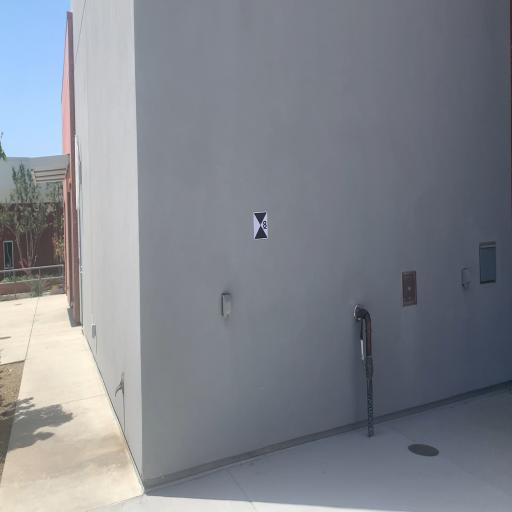target8: (254, 210, 268, 238)
